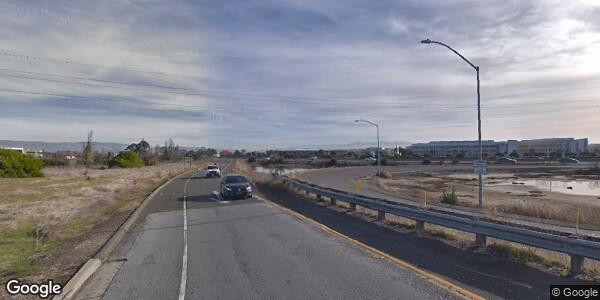Steel_Pole: (417, 39, 488, 207), (352, 117, 381, 176)
